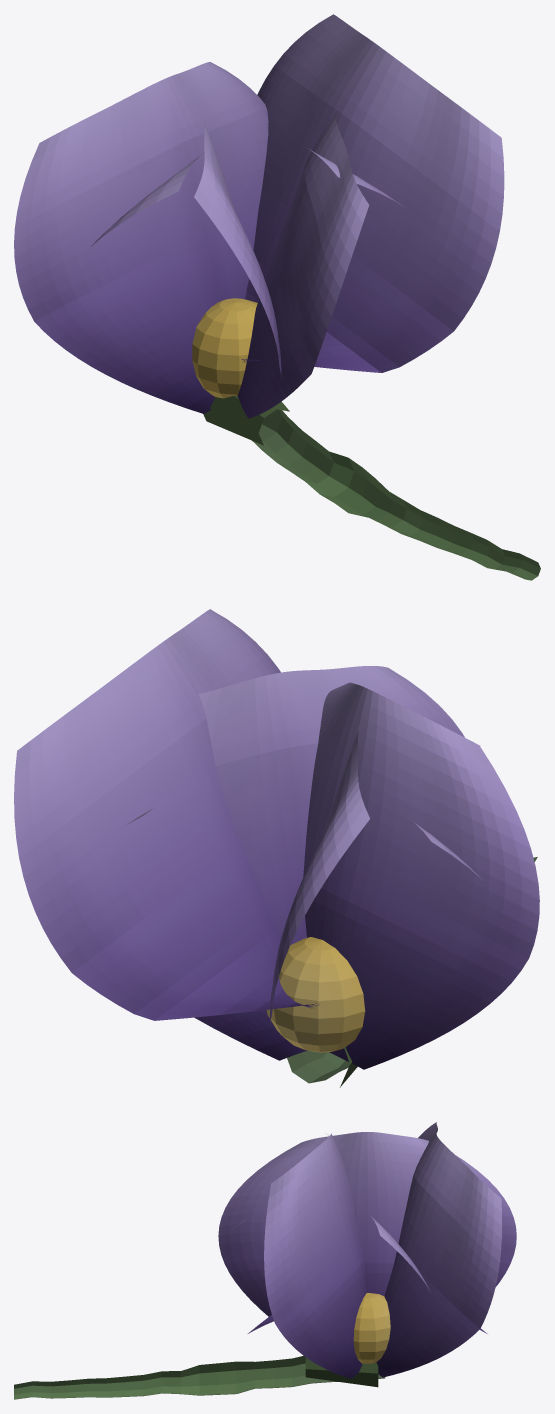
File: Violet_B.glb
3 views of the same model, one above another, from view 1: azimuth 30°, elevation 25°; view 2: azimuth 150°, elevation 25°; view 3: azimuth 270°, elevation 25° (orthographic). The views are drawn at different scales.
Parts seen in each view (by area): view 1: Violet_B; view 2: Violet_B; view 3: Violet_B.
Boxes of the visible parts, bbox=[...] form: Violet_B: bbox=[14, 14, 540, 580]; Violet_B: bbox=[14, 609, 539, 1087]; Violet_B: bbox=[14, 1122, 516, 1399].
Size of the model in its own units: 0.3693 by 0.3276 by 0.5961.
